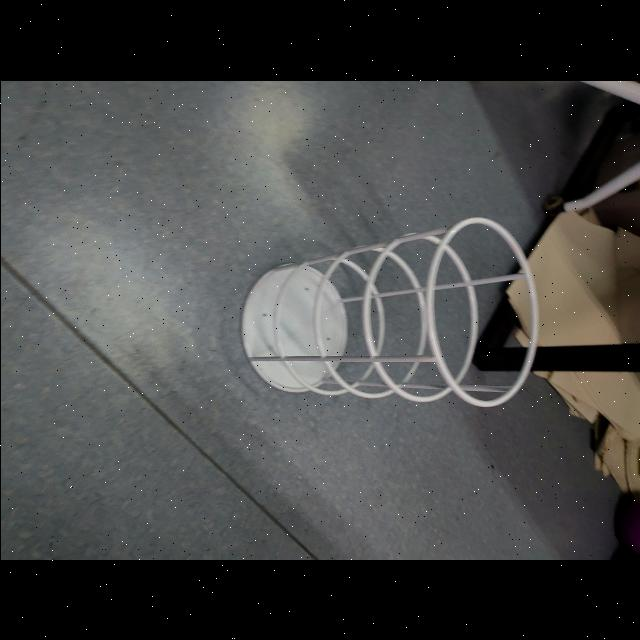S: (232, 212, 540, 414)
